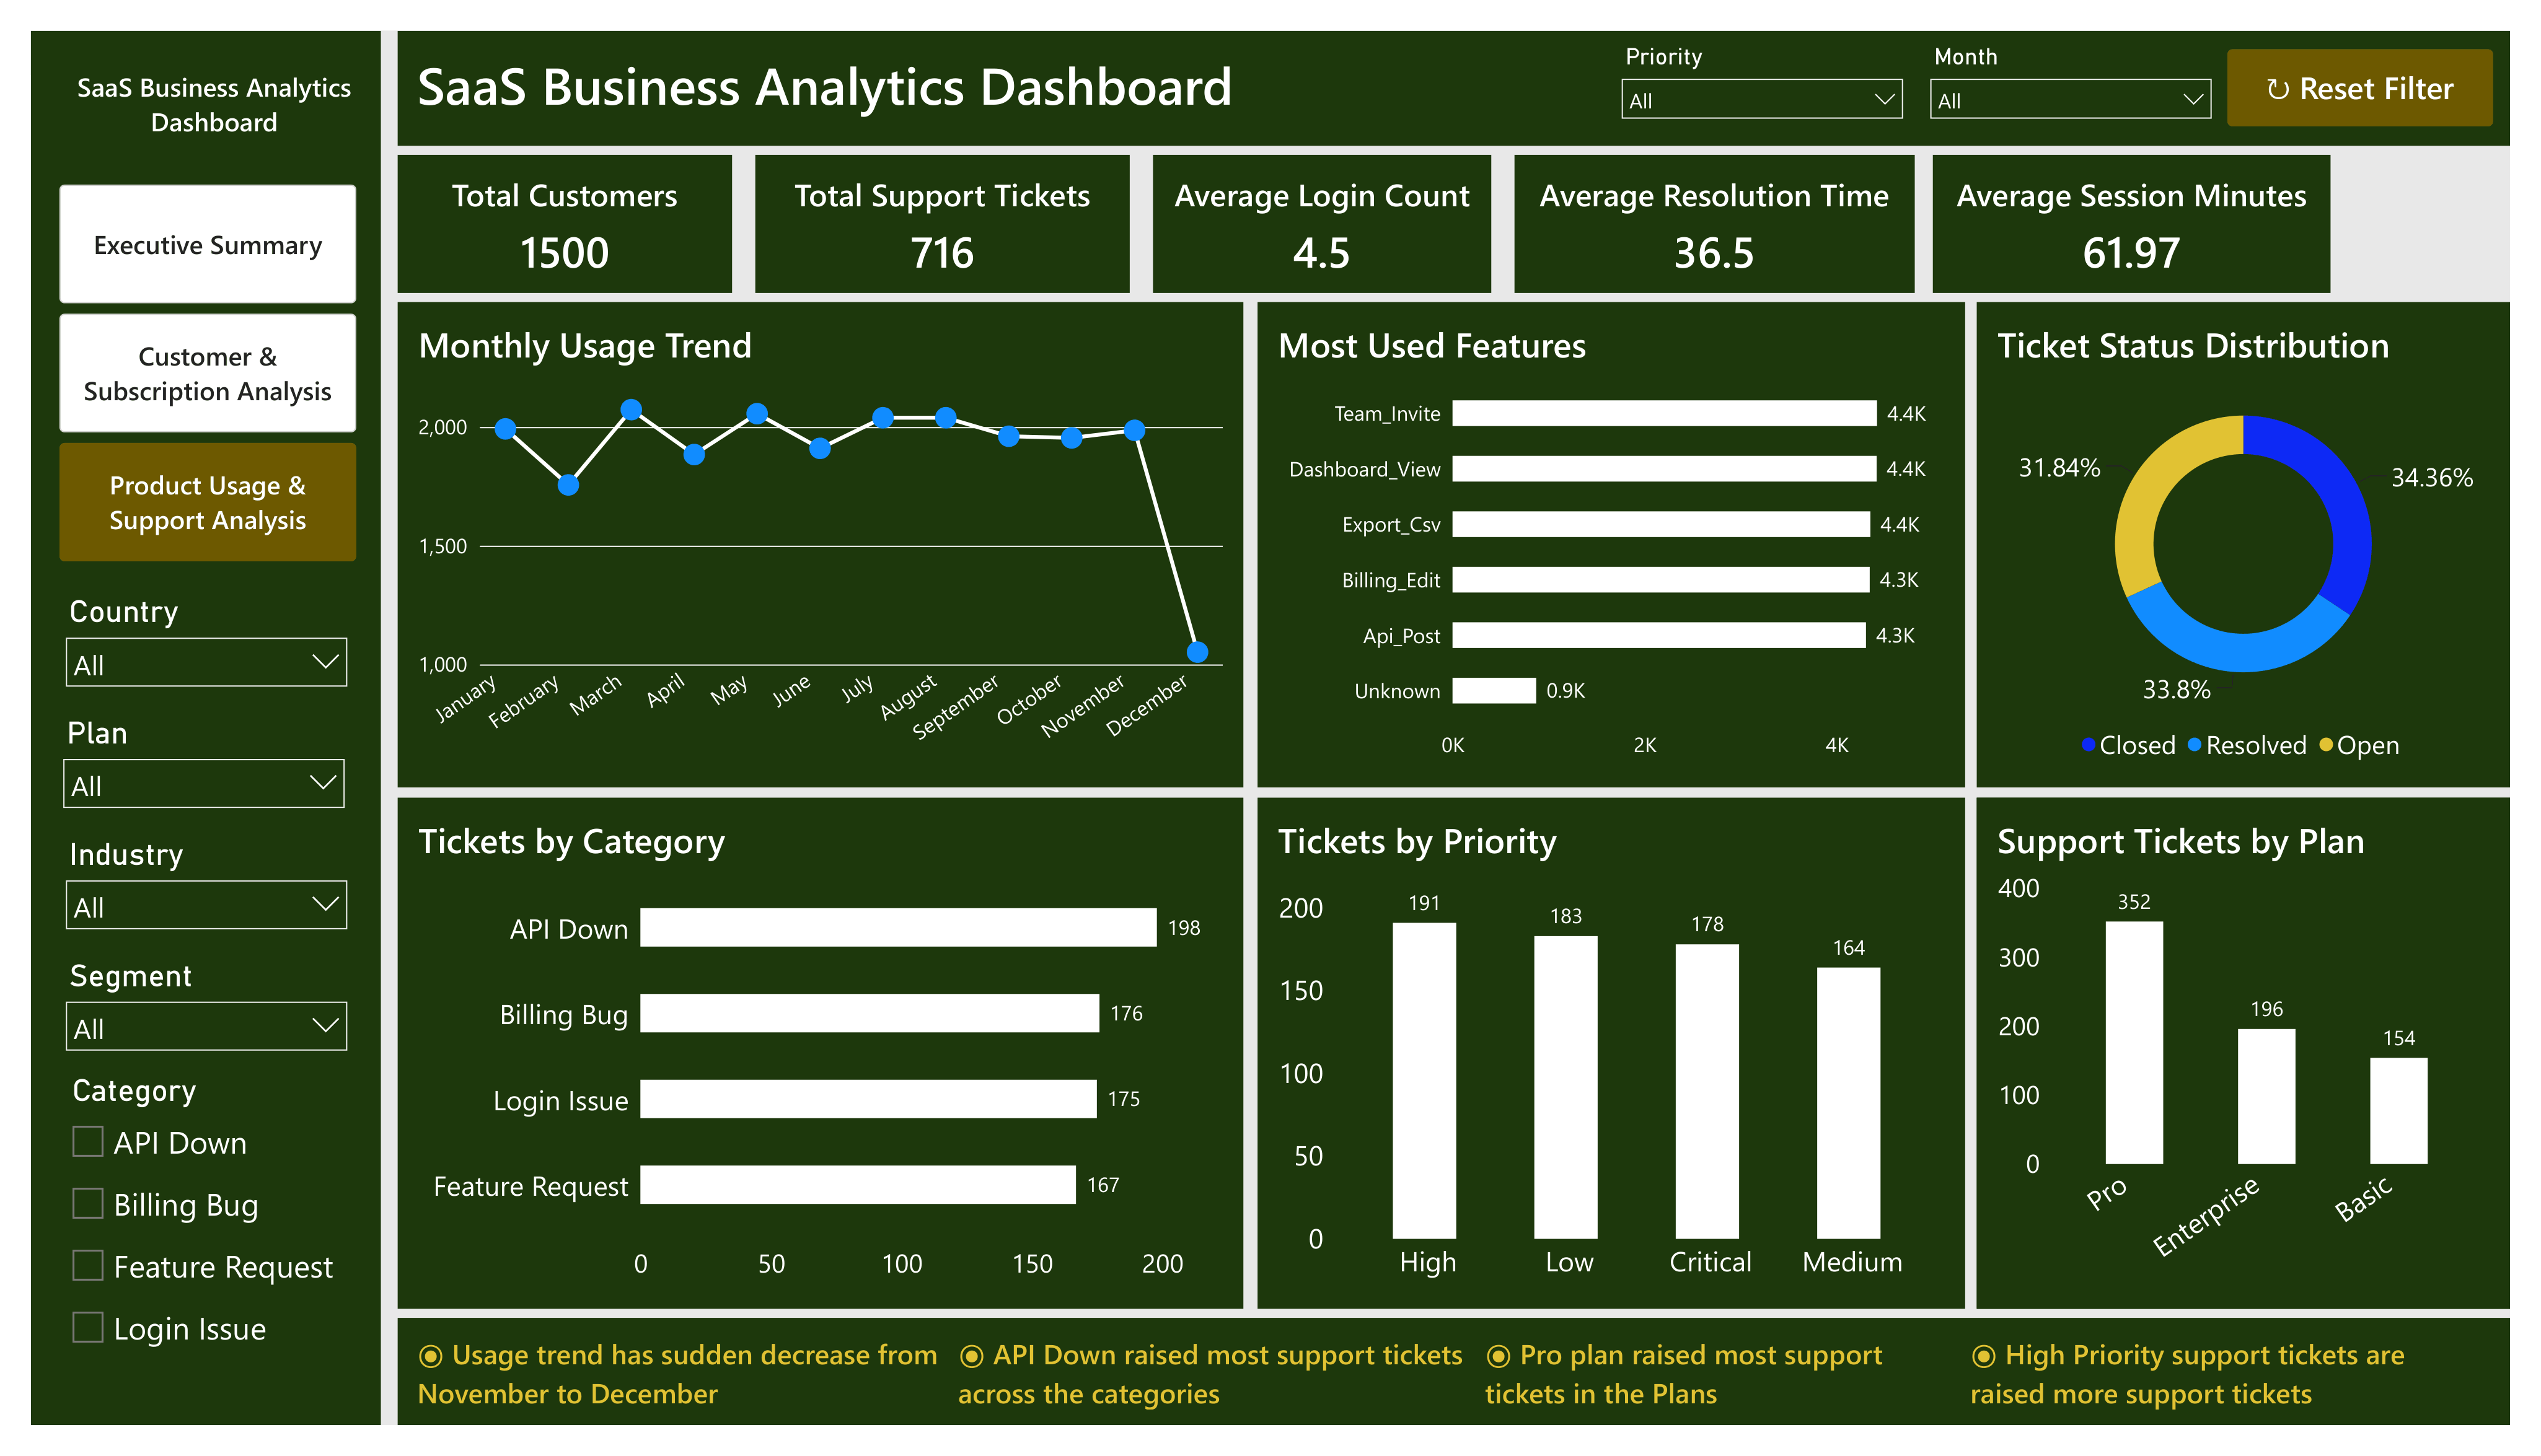

The page's visual inventory and layout, read from the dashboard file:
{"tool":"powerbi","page":{"name":"Product Usage & Support Analysis","canvas":[1920,1080],"ordinal":2},"visuals":[{"type":"shape","box":[0,0,271.4,1080.4],"z":0},{"type":"shape","box":[284.1,0,1635.9,88.7],"z":1000},{"type":"pageNavigator","box":[21.7,119.4,229.8,293.2],"z":2000},{"type":"slicer","fields":{"Values":["customers.Country"]},"box":[21.7,436.1,228,79.6],"z":3000},{"type":"slicer","fields":{"Values":["plans.Plan_Name"]},"box":[19.9,530.2,228,79.6],"z":4000},{"type":"slicer","fields":{"Values":["customers.Industry"]},"box":[21.7,624.3,228,79.6],"z":5000},{"type":"slicer","fields":{"Values":["customers.Segment"]},"box":[21.7,718.4,228,79.6],"z":6000},{"type":"textbox","title":"SaaS Business Analytics Dashboard","box":[298.6,14.5,640.6,59.7],"z":7000},{"type":"textbox","title":"SaaS Business Analytics Dashboard","box":[34.4,29,215.3,59.7],"z":8000},{"type":"card","title":"Total Customers","fields":{"Values":["Table.totalcustomers"]},"box":[284.1,95.9,258.8,106.8],"z":9000},{"type":"lineChart","title":"Monthly Usage Trend","fields":{"Category":["usage.Event_Date.Variation.Date Hierarchy.Month"],"Y":["CountNonNull(usage.Usage_Id)"]},"box":[284.1,209.9,655.1,376.4],"z":10000},{"type":"columnChart","title":"Tickets by Priority","fields":{"Category":["support.Priority"],"Y":["CountNonNull(support.Ticket_Id)"]},"box":[950.1,593.6,548.3,396],"z":11000},{"type":"clusteredBarChart","title":"Tickets by Category","fields":{"Category":["support.Category"],"Y":["CountNonNull(support.Ticket_Id)"]},"box":[284.1,593.6,655.1,396],"z":12000},{"type":"clusteredBarChart","title":"Most Used Features","fields":{"Category":["usage.Feature_Name"],"Y":["CountNonNull(usage.Customer_Id)"]},"box":[950.1,209.9,548.3,376.4],"z":13000},{"type":"donutChart","title":"Ticket Status Distribution","fields":{"Category":["support.Status"],"Y":["CountNonNull(support.Ticket_Id)"]},"box":[1507.4,209.9,412.6,376.4],"z":14000},{"type":"funnel","title":"Revenue by Industry","fields":{"Category":["customers.Industry"],"Y":["Sum(payments.Amount)"]},"box":[1507.4,593.6,412.6,396],"z":15000},{"type":"card","title":"Average Resolution Time","fields":{"Values":["Table.Averageresolutiontime"]},"box":[1149.1,95.9,309.5,106.8],"z":16000},{"type":"card","title":"Total Support Tickets","fields":{"Values":["Table.totalsupporttickets"]},"box":[561,95.9,289.5,106.8],"z":17000},{"type":"card","title":"Average Session Minutes","fields":{"Values":["Table.avgsessionminutes"]},"box":[1473.1,95.9,307.6,106.8],"z":18000},{"type":"shape","box":[284.1,997.1,1635.9,83],"z":19000},{"type":"textbox","title":"⦿ Usage trend has sudden decrease from November to December","box":[298.6,1009.8,412.6,57.9],"z":20000},{"type":"textbox","title":"⦿ API Down raised most support tickets across the categories","box":[718.4,1009.8,398.1,57.9],"z":21000},{"type":"textbox","title":"⦿ Pro plan raised most support tickets in the Plans","box":[1125.6,1009.8,352.9,57.9],"z":22000},{"type":"clusteredColumnChart","title":"Support Tickets by Plan","fields":{"Category":["plans.Plan_Name"],"Y":["CountNonNull(support.Ticket_Id)"]},"box":[1507.4,593.6,412.6,396],"z":23000},{"type":"textbox","title":"⦿ High Priority support tickets are raised more support tickets","box":[1502,1009.8,383.6,57.9],"z":24000},{"type":"card","title":"Average Login Count","fields":{"Values":["Table.averagelogincount"]},"box":[868.6,95.9,262.4,106.8],"z":25000},{"type":"slicer","fields":{"Values":["support.Ticket_Date.Variation.Date Hierarchy.Month"]},"box":[1465.8,9,228,65.1],"z":26000},{"type":"slicer","fields":{"Values":["support.Priority"]},"box":[1227,9,228,65.1],"z":27000},{"type":"slicer","fields":{"Values":["support.Category"]},"box":[23.5,807.1,228,228],"z":28000},{"type":"actionButton","box":[1701.1,14.5,206.3,59.7],"z":29000}]}

Visuals, with their boxes on the page's 1920x1080 design canvas (x1, y1, x2, y2). These are canvas units, not pixel positions in the 2541x1456 screenshot, which may show the page scaled, cropped or inside an application window:
shape: [x1=0, y1=0, x2=271, y2=1080]
shape: [x1=284, y1=0, x2=1920, y2=89]
pageNavigator: [x1=22, y1=119, x2=252, y2=413]
slicer - customers.Country: [x1=22, y1=436, x2=250, y2=516]
slicer - plans.Plan_Name: [x1=20, y1=530, x2=248, y2=610]
slicer - customers.Industry: [x1=22, y1=624, x2=250, y2=704]
slicer - customers.Segment: [x1=22, y1=718, x2=250, y2=798]
"SaaS Business Analytics Dashboard" textbox: [x1=299, y1=14, x2=939, y2=74]
"SaaS Business Analytics Dashboard" textbox: [x1=34, y1=29, x2=250, y2=89]
"Total Customers" card: [x1=284, y1=96, x2=543, y2=203]
"Monthly Usage Trend" lineChart: [x1=284, y1=210, x2=939, y2=586]
"Tickets by Priority" columnChart: [x1=950, y1=594, x2=1498, y2=990]
"Tickets by Category" clusteredBarChart: [x1=284, y1=594, x2=939, y2=990]
"Most Used Features" clusteredBarChart: [x1=950, y1=210, x2=1498, y2=586]
"Ticket Status Distribution" donutChart: [x1=1507, y1=210, x2=1920, y2=586]
"Revenue by Industry" funnel: [x1=1507, y1=594, x2=1920, y2=990]
"Average Resolution Time" card: [x1=1149, y1=96, x2=1459, y2=203]
"Total Support Tickets" card: [x1=561, y1=96, x2=850, y2=203]
"Average Session Minutes" card: [x1=1473, y1=96, x2=1781, y2=203]
shape: [x1=284, y1=997, x2=1920, y2=1080]
"⦿ Usage trend has sudden decrease from November to December" textbox: [x1=299, y1=1010, x2=711, y2=1068]
"⦿ API Down raised most support tickets across the categories" textbox: [x1=718, y1=1010, x2=1116, y2=1068]
"⦿ Pro plan raised most support tickets in the Plans" textbox: [x1=1126, y1=1010, x2=1478, y2=1068]
"Support Tickets by Plan" clusteredColumnChart: [x1=1507, y1=594, x2=1920, y2=990]
"⦿ High Priority support tickets are raised more support tickets" textbox: [x1=1502, y1=1010, x2=1886, y2=1068]
"Average Login Count" card: [x1=869, y1=96, x2=1131, y2=203]
slicer - support.Ticket_Date.Variation.Date Hierarchy.Month: [x1=1466, y1=9, x2=1694, y2=74]
slicer - support.Priority: [x1=1227, y1=9, x2=1455, y2=74]
slicer - support.Category: [x1=24, y1=807, x2=252, y2=1035]
actionButton: [x1=1701, y1=14, x2=1907, y2=74]
